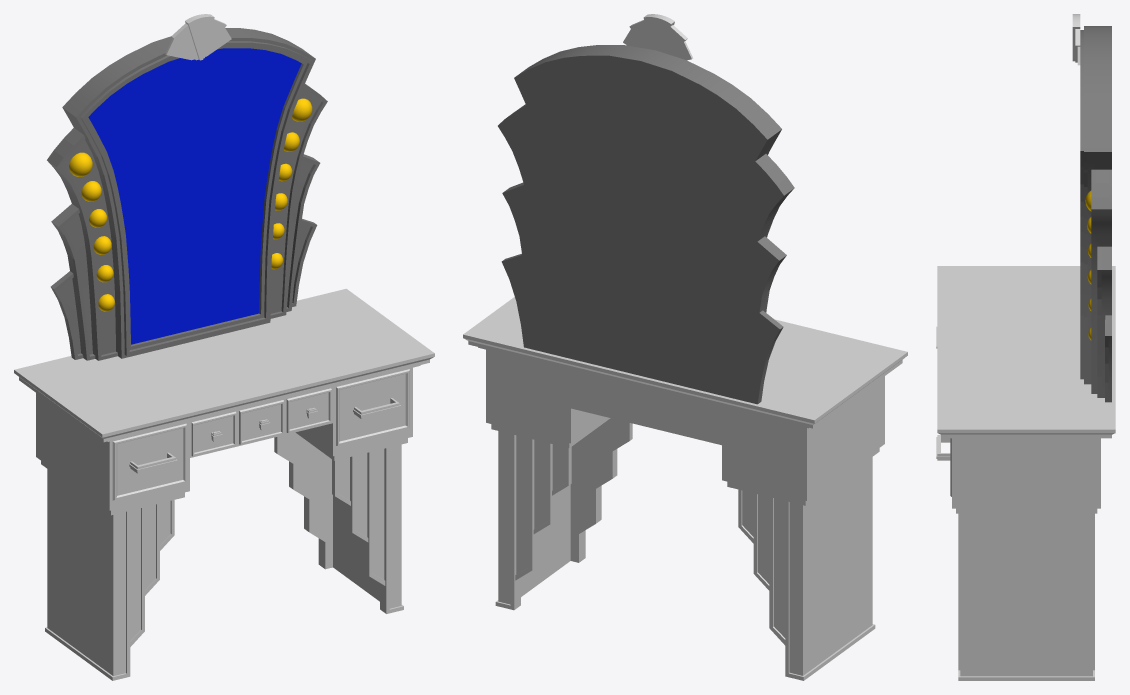
File: SM_DressingTableBigMirror_01.fbx
3 renders of one model, left to right at view 1: azimuth 30°, elevation 25°; view 2: azimuth 150°, elevation 25°; view 3: azimuth 270°, elevation 25°, orthographic. The views are drawn at different scales.
Parts seen in each view (by area): view 1: SM_Mirror_01, SM_LegsVanity, SM_TopVanity_01, SM_BaseVanity_01, SM_BigDrawer_003, SM_BigDrawer_02, SM_LightMirror_01, SM_TopDeco_005, SM_SmallDrawer_03, SM_SmallDrawer_02, SM_SmallDrawer_01; view 2: SM_Mirror_01, SM_LegsVanity, SM_BaseVanity_01, SM_TopVanity_01, SM_TopDeco_005; view 3: SM_TopVanity_01, SM_LegsVanity, SM_Mirror_01, SM_BaseVanity_01, SM_TopDeco_005, SM_LightMirror_01, SM_BigDrawer_02.
Boxes of the visible parts, left/top/right/bottom form: SM_Mirror_01: left=47, top=28, right=327, bottom=360; SM_LegsVanity: left=45, top=432, right=403, bottom=680; SM_TopVanity_01: left=14, top=288, right=434, bottom=442; SM_BaseVanity_01: left=36, top=367, right=412, bottom=515; SM_BigDrawer_003: left=112, top=423, right=186, bottom=500; SM_BigDrawer_02: left=336, top=369, right=409, bottom=445; SM_LightMirror_01: left=69, top=98, right=312, bottom=311; SM_TopDeco_005: left=165, top=14, right=231, bottom=60; SM_SmallDrawer_03: left=286, top=388, right=331, bottom=432; SM_SmallDrawer_02: left=191, top=411, right=236, bottom=456; SM_SmallDrawer_01: left=239, top=400, right=283, bottom=444; SM_Mirror_01: left=498, top=45, right=794, bottom=404; SM_LegsVanity: left=495, top=418, right=875, bottom=680; SM_BaseVanity_01: left=486, top=349, right=884, bottom=505; SM_TopVanity_01: left=463, top=297, right=907, bottom=428; SM_TopDeco_005: left=623, top=14, right=693, bottom=60; SM_TopVanity_01: left=937, top=266, right=1115, bottom=438; SM_LegsVanity: left=958, top=513, right=1094, bottom=680; SM_Mirror_01: left=1080, top=26, right=1111, bottom=402; SM_BaseVanity_01: left=952, top=438, right=1100, bottom=513; SM_TopDeco_005: left=1072, top=14, right=1080, bottom=65; SM_LightMirror_01: left=1085, top=190, right=1091, bottom=340; SM_BigDrawer_02: left=936, top=435, right=951, bottom=496.
Size of the model in its own units: 104 by 175 by 48.25.
